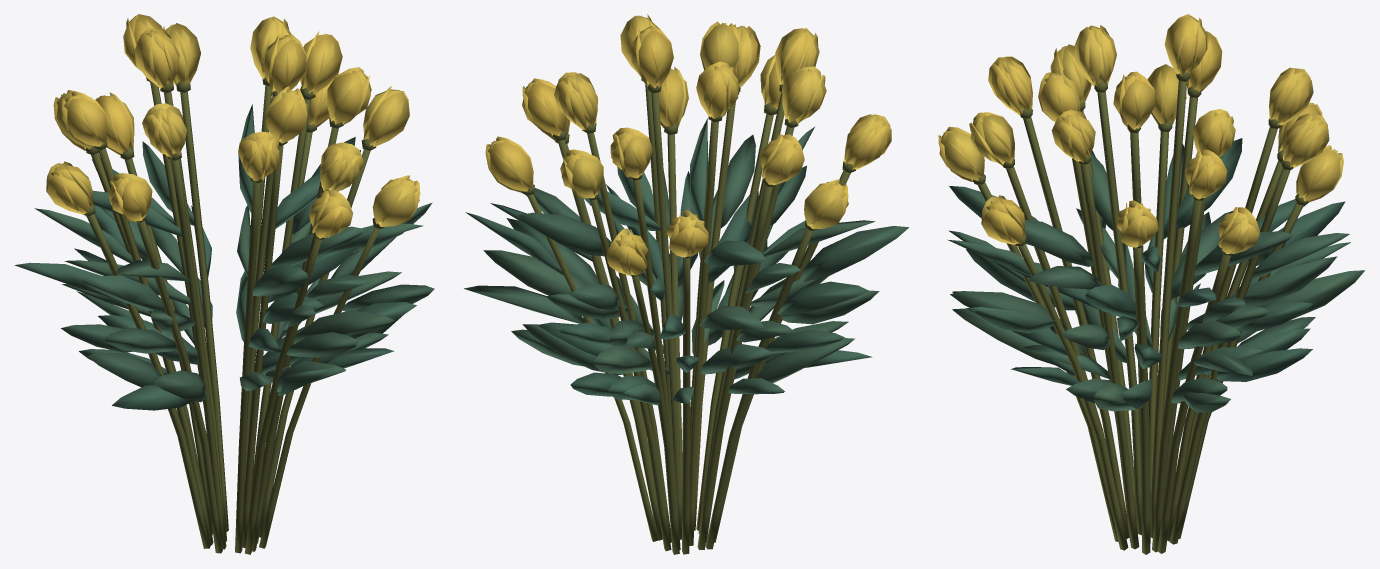
The model's file is bucket_tulips_yellow.glb.
3 views of the same model, side by side, from view 1: azimuth 30°, elevation 25°; view 2: azimuth 150°, elevation 25°; view 3: azimuth 270°, elevation 25° (orthographic). The views are drawn at different scales.
Parts seen in each view (by area): view 1: Sammel Pflanze, Sammel Putz; view 2: Sammel Pflanze, Sammel Putz; view 3: Sammel Pflanze, Sammel Putz.
Part boxes in pixels (left/top/right/bottom): Sammel Pflanze: left=14, top=14, right=434, bottom=410; Sammel Putz: left=83, top=77, right=384, bottom=554; Sammel Pflanze: left=464, top=14, right=908, bottom=405; Sammel Putz: left=520, top=78, right=855, bottom=554; Sammel Pflanze: left=938, top=14, right=1364, bottom=412; Sammel Putz: left=973, top=72, right=1308, bottom=554.
Bounding box in the file's own units: 0.4377 × 0.553 × 0.4293.
